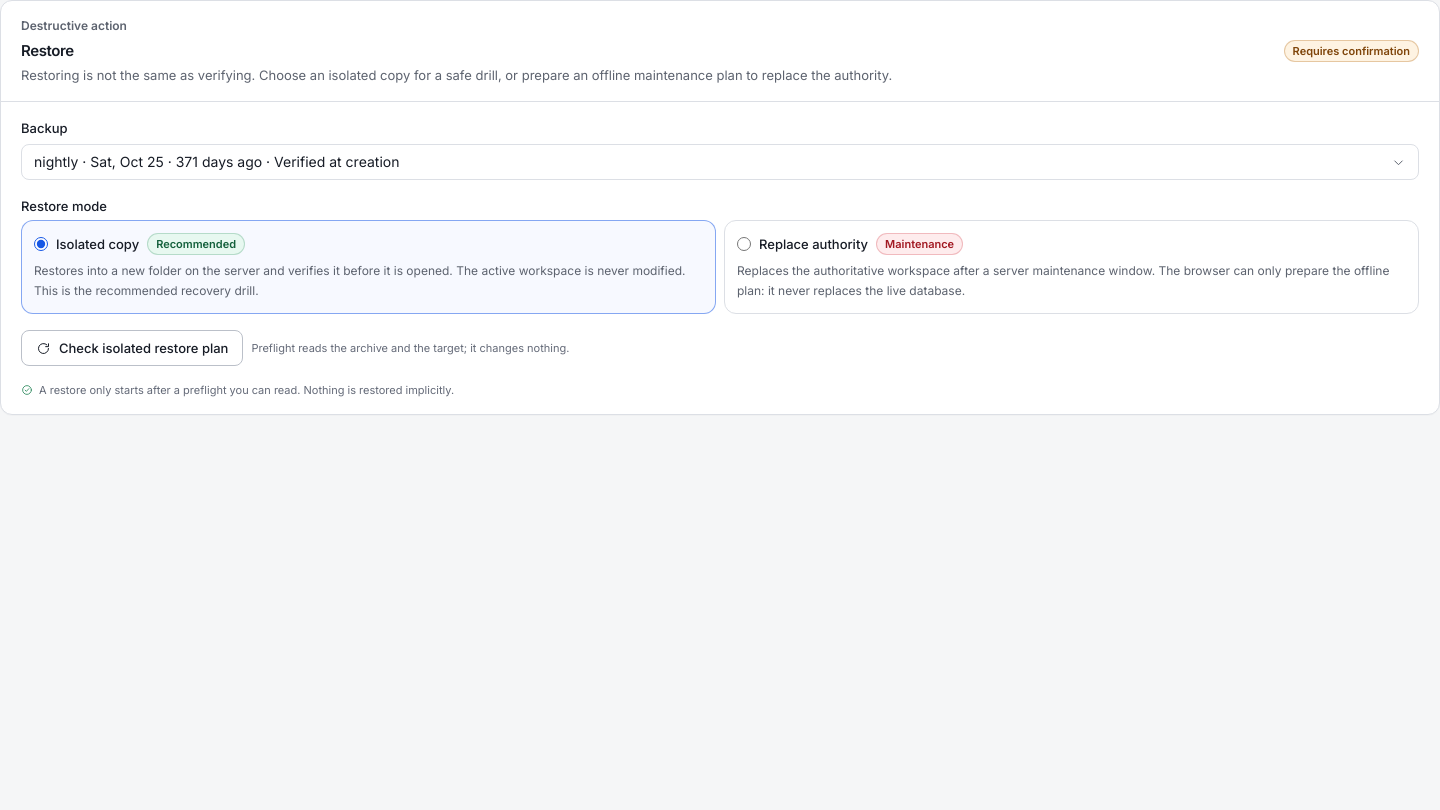
Scenario: restore panel › gates an isolated restore behind a preflight and the typed confirmation word
Click the button "Check isolated restore plan" at (132, 348), box [21, 330, 243, 366]
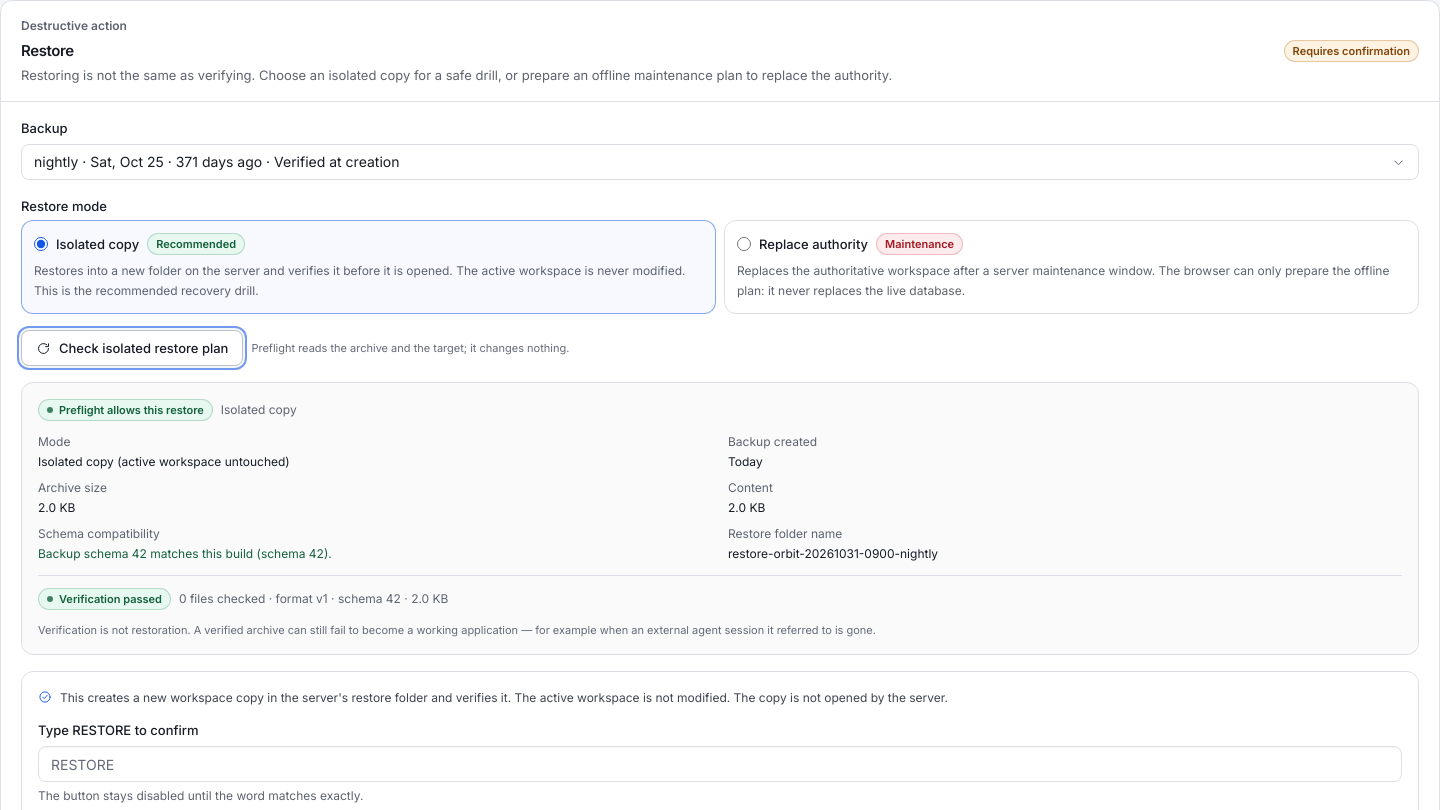
Now the text "Preflight allows this restore" is shown, box [38, 399, 213, 421]
Now the text "restore-orbit-20261031-0900-nightly" is shown, box [728, 546, 938, 561]
Type "restore" into the field labelled "Type RESTORE to confirm" at (720, 764), box [38, 746, 1402, 782]
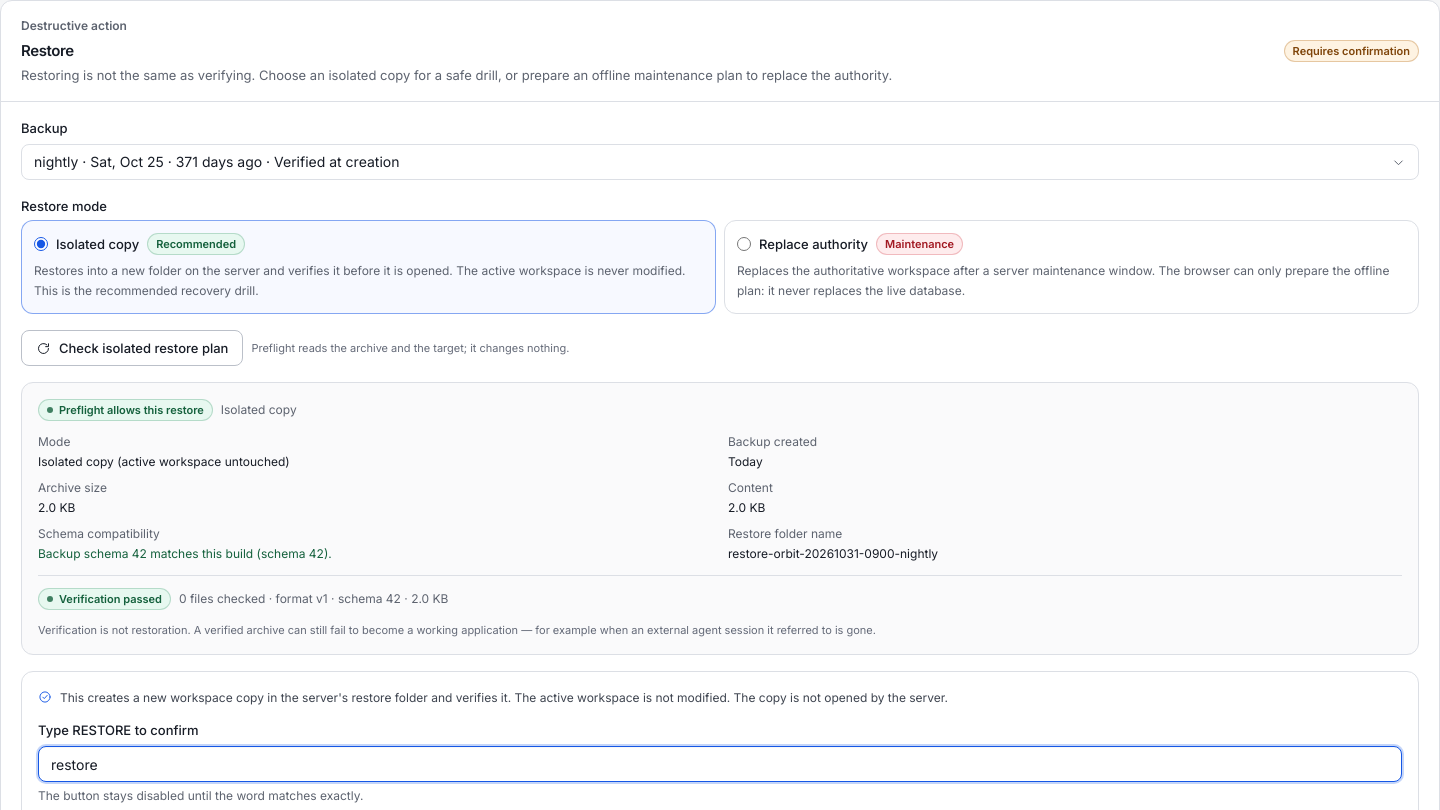
Replace the text in the field labelled "Type RESTORE to confirm" with "RESTORE" at (720, 764), box [38, 746, 1402, 782]
(page scrolled)
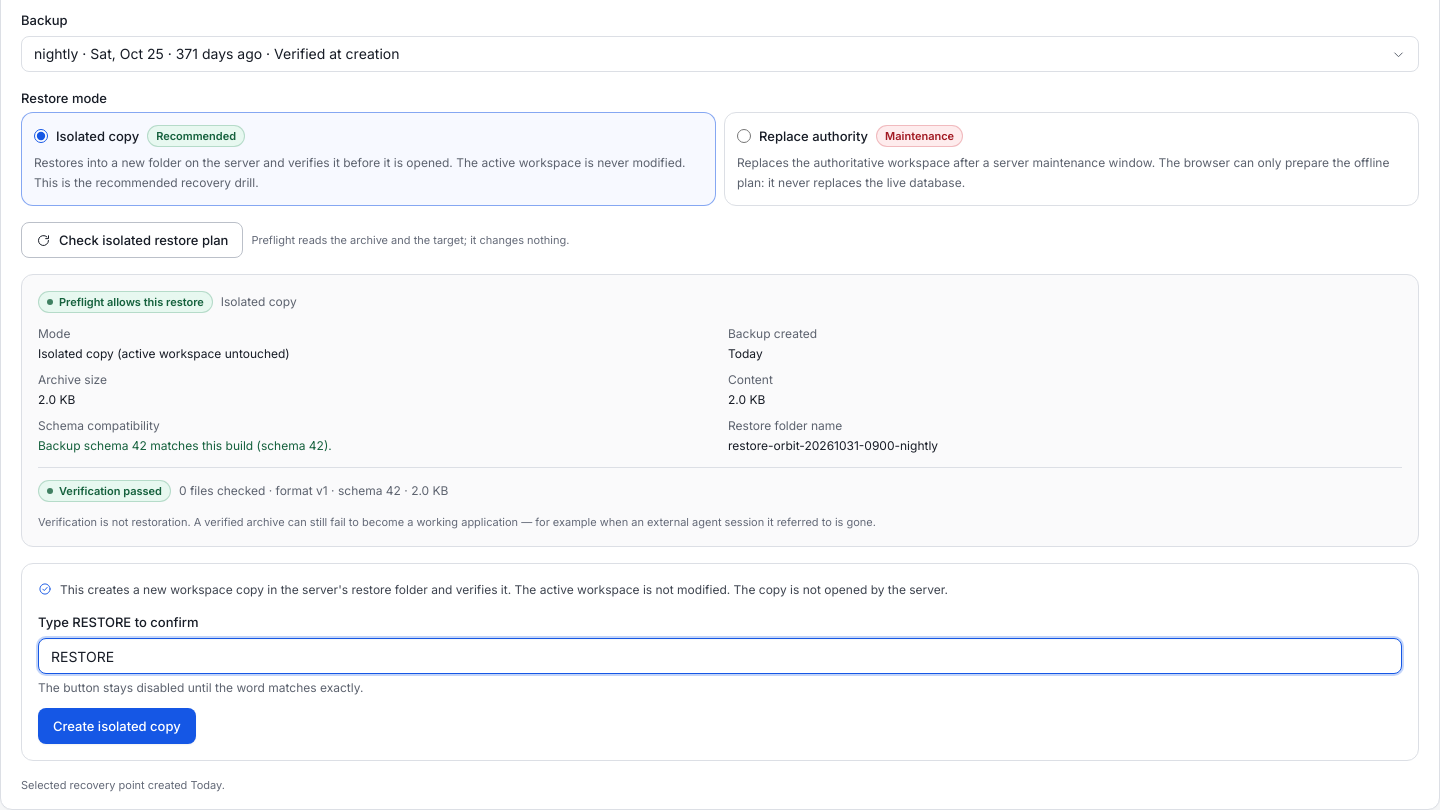
Now the button "Create isolated copy" is enabled, box [38, 708, 196, 744]
